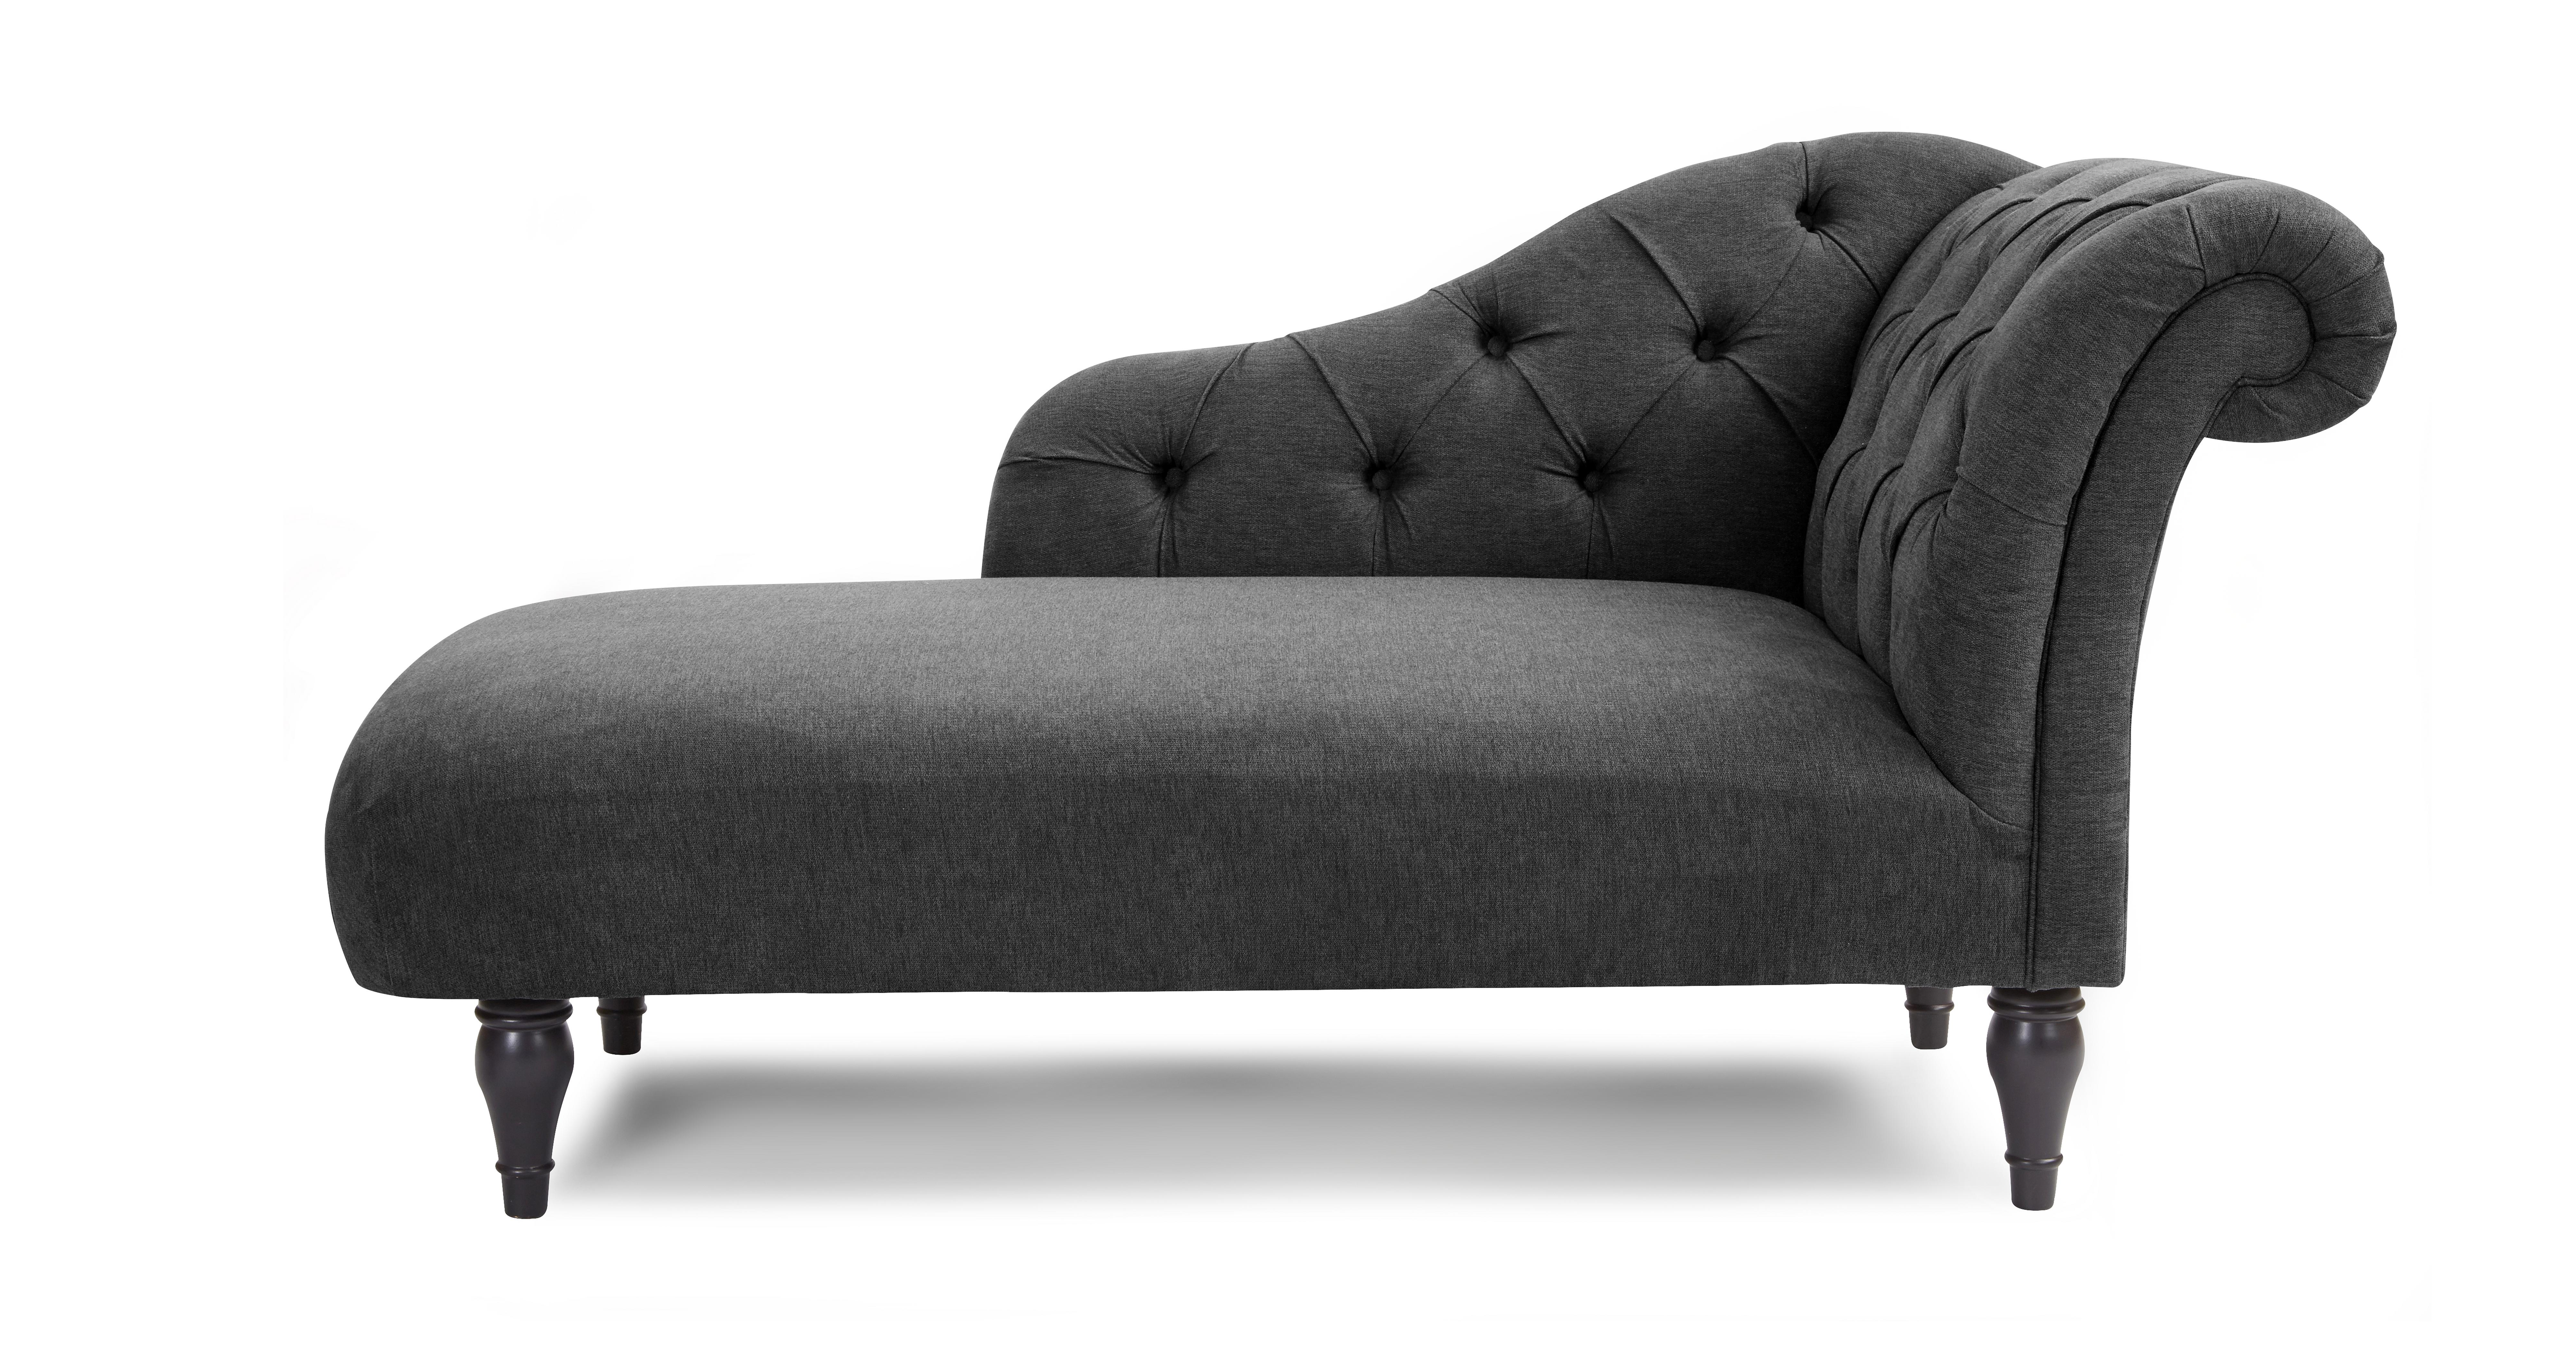chairs: (298, 94, 2395, 1229)
